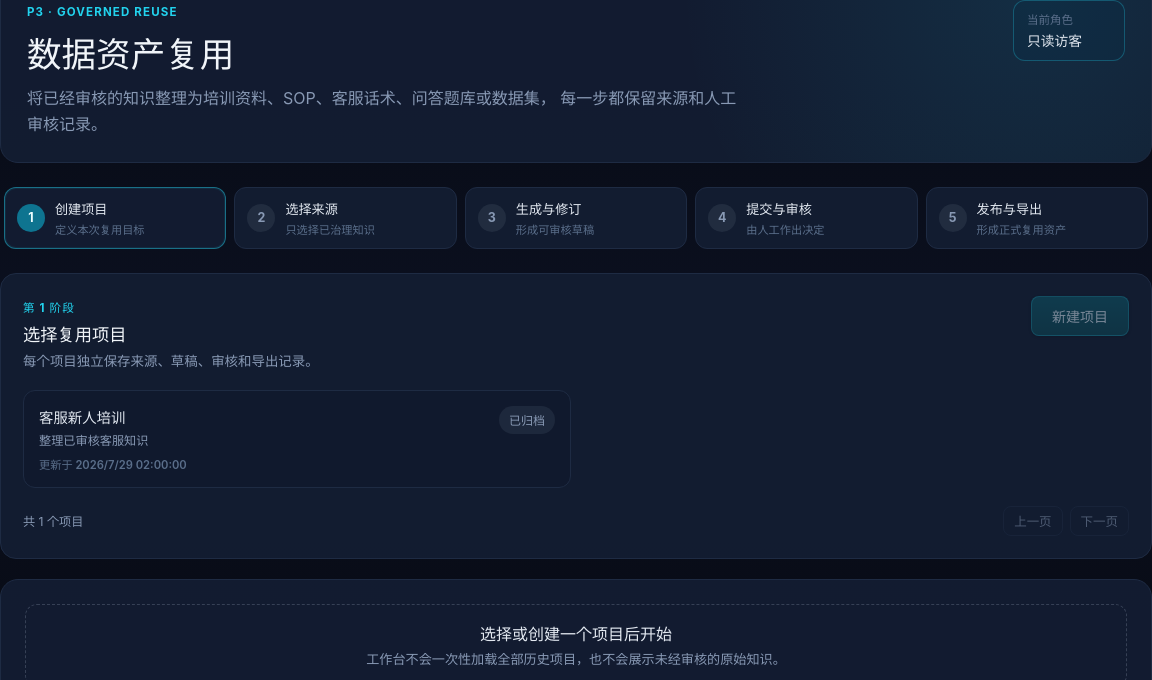
Test: P3 project and governed source workspace › keeps archived projects read-only and hides mutation controls from viewer/service roles
Click the button "客服新人培训 整理已审核客服知识 已归档 更新于 2026/7/29 02:00:00" at (82, 417), box [23,390,571,488]
(page scrolled)
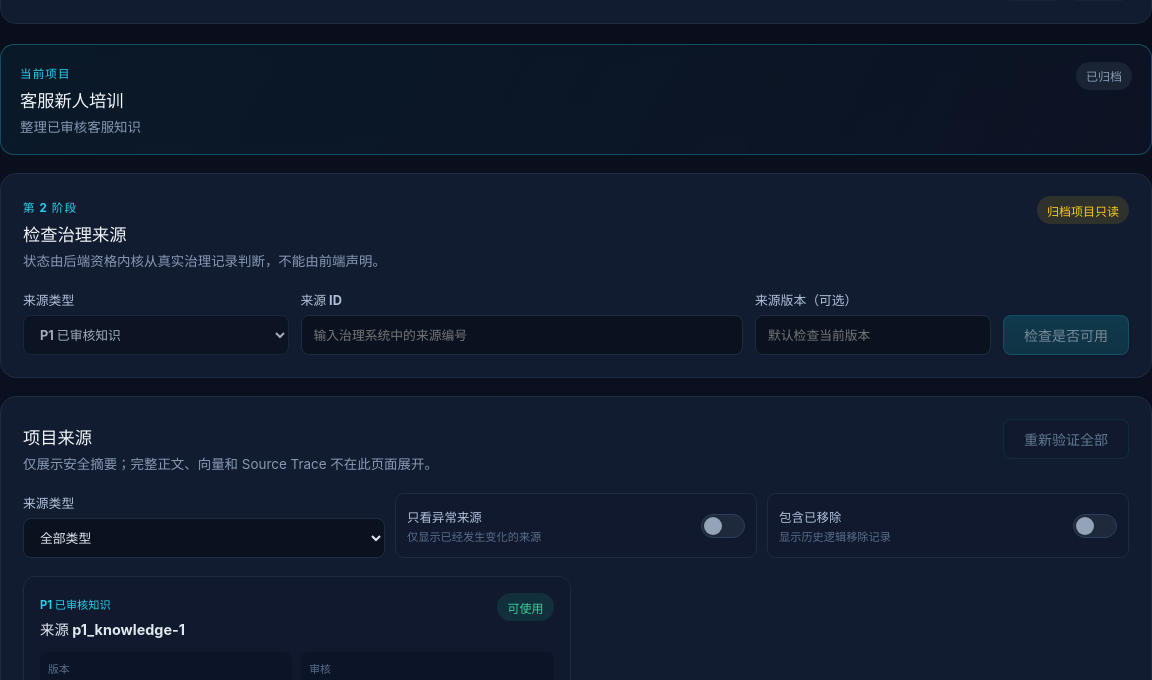
Now the heading "检查治理来源" is shown, box [23,224,127,245]
Now the button "检查是否可用" is disabled, box [1003,315,1129,355]
